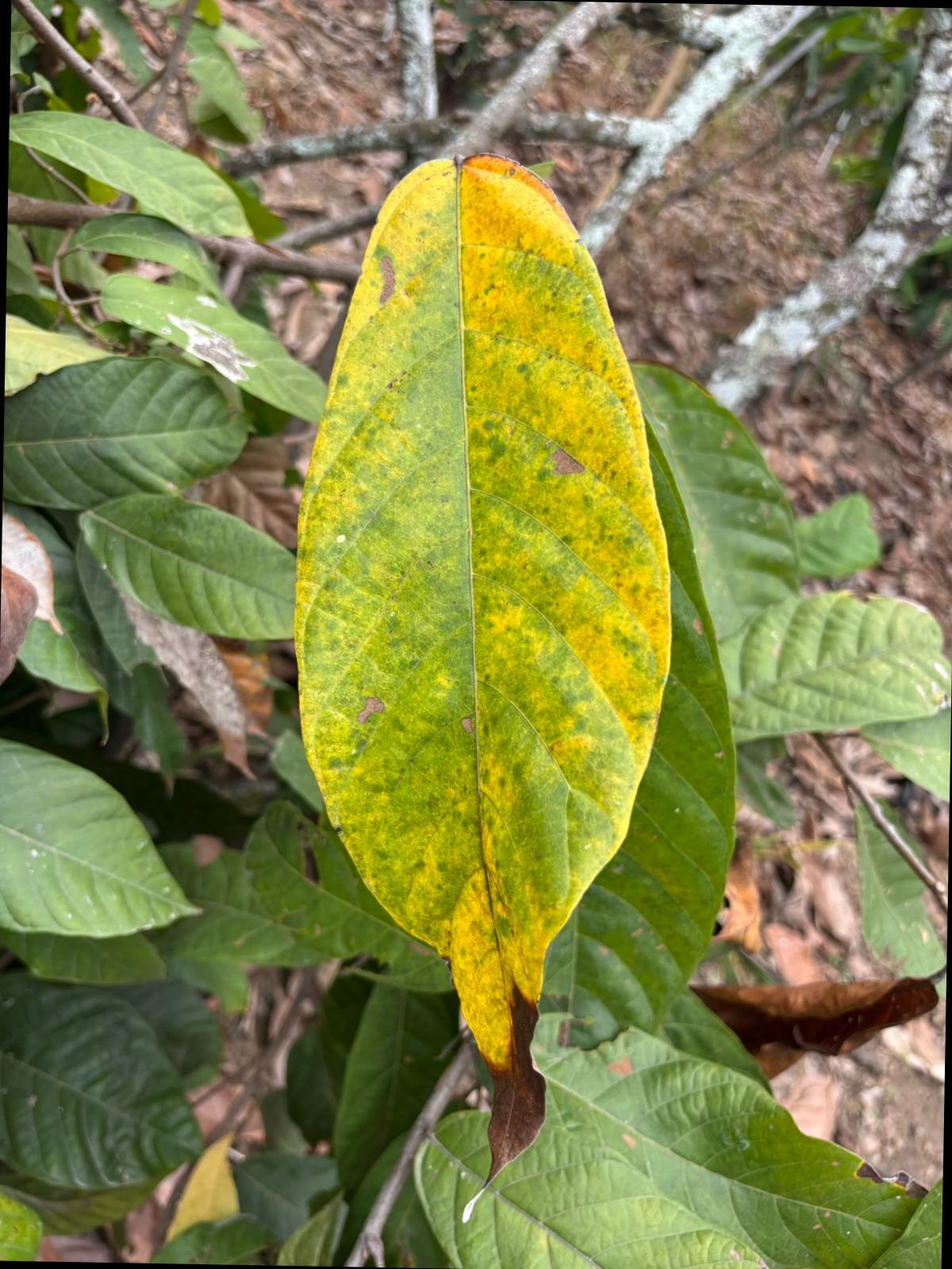Fosforo: (296, 155, 670, 1175)
